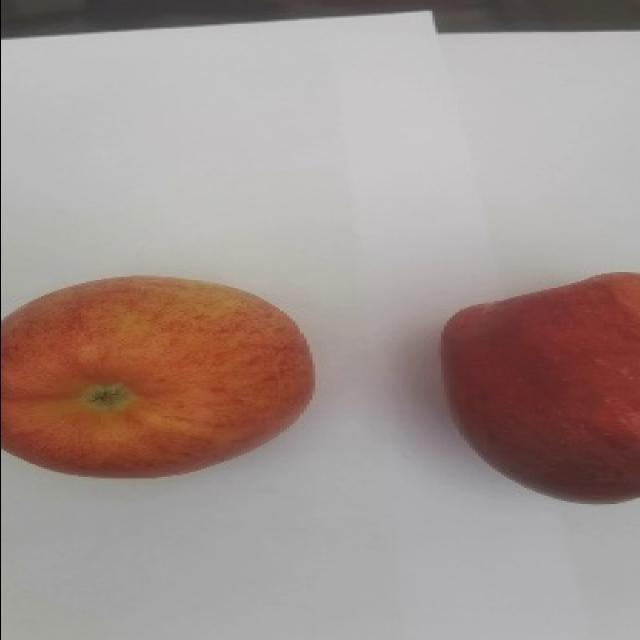Apple: (0, 273, 315, 478), (439, 270, 639, 504)
